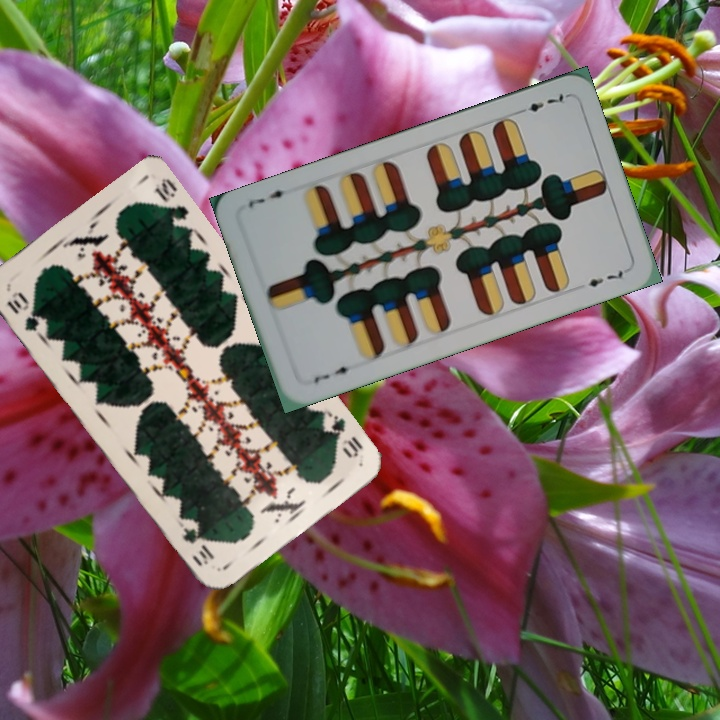E7: (512, 90, 570, 117), (309, 362, 358, 386)
G10: (317, 409, 366, 461), (2, 287, 42, 334)
